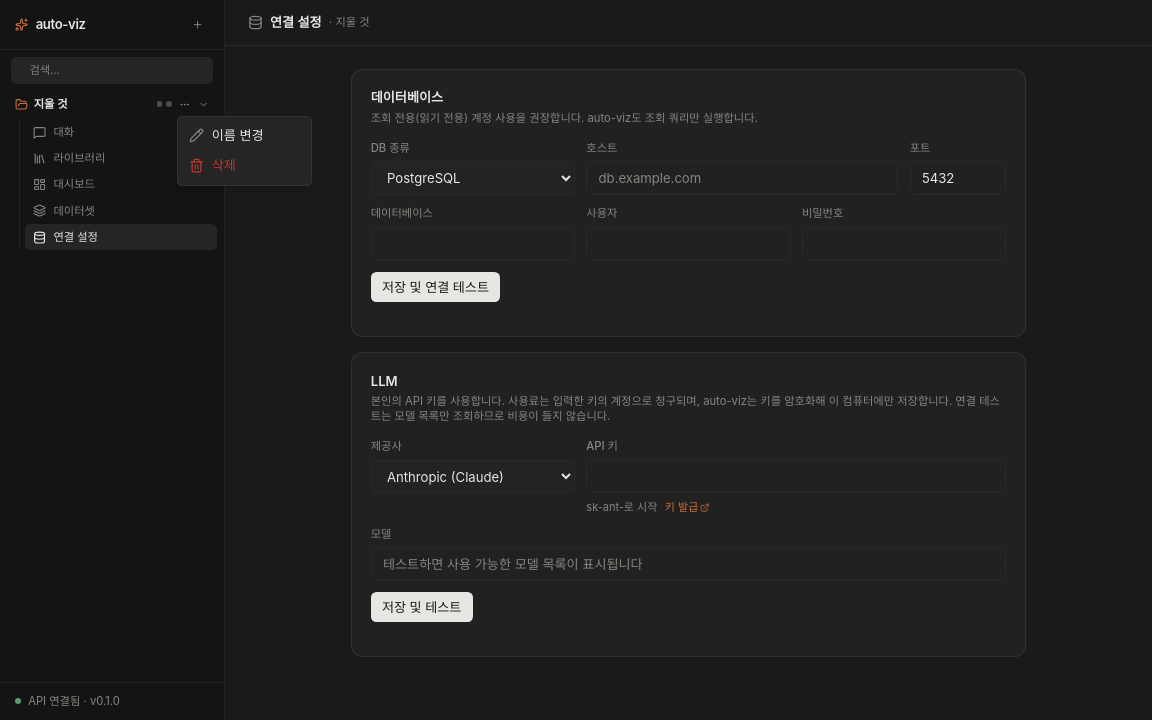
사이드바 프로젝트 목록 › 삭제는 확인 후 DELETE를 보내고, 보고 있던 프로젝트면 홈으로 이동한다
Earlier steps of the test are not shown.
Click the menu item "삭제": (213, 165) [189,157,236,173]
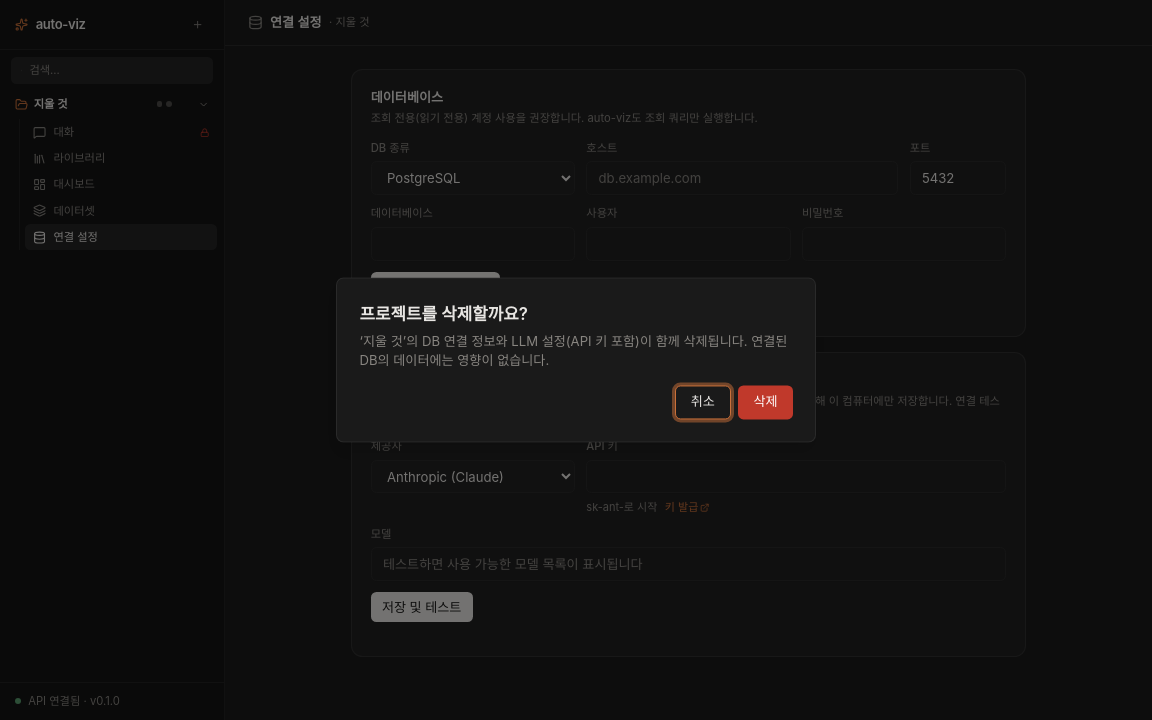
Check: the text "API 키 포함" is shown, box [360,334,787,369]
Click the button "삭제": (765, 402) [738,385,792,419]
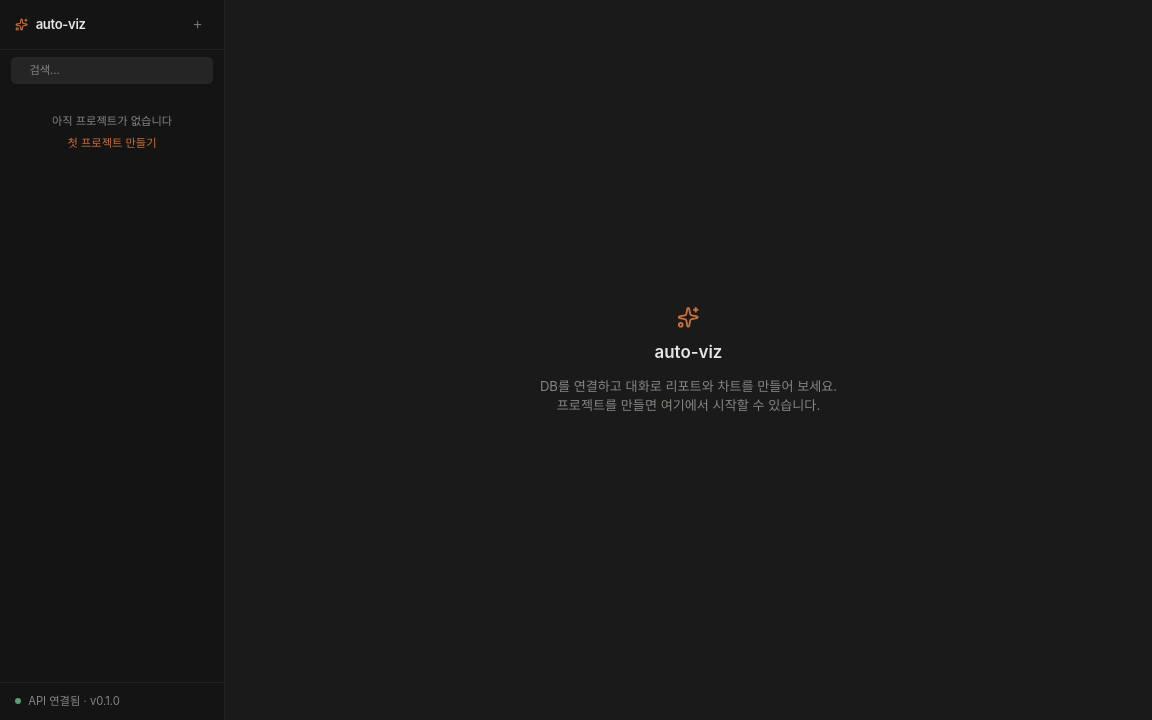
Check: the text "아직 프로젝트가 없습니다" is shown, box [52,114,172,128]
